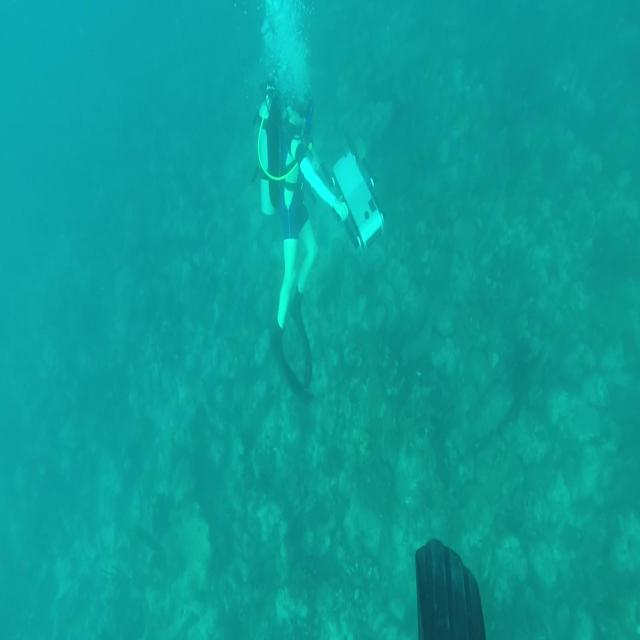human: (251, 78, 350, 405)
